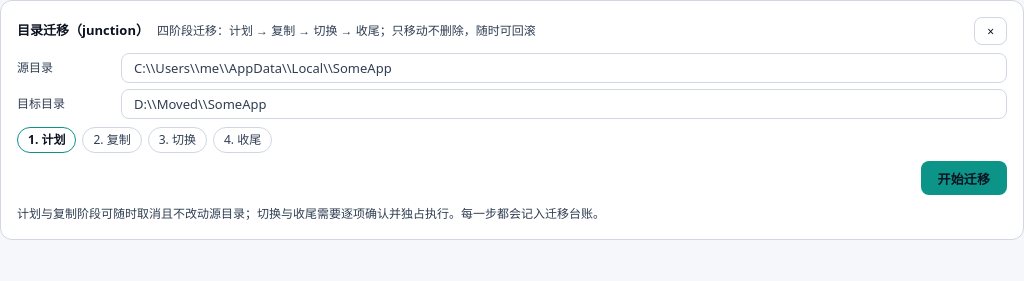
warns instead of pretending to be fresh when the state is inconsistent
In the field labelled "源目录": [564, 68] box [121,53,1007,83], type "C:\\src"
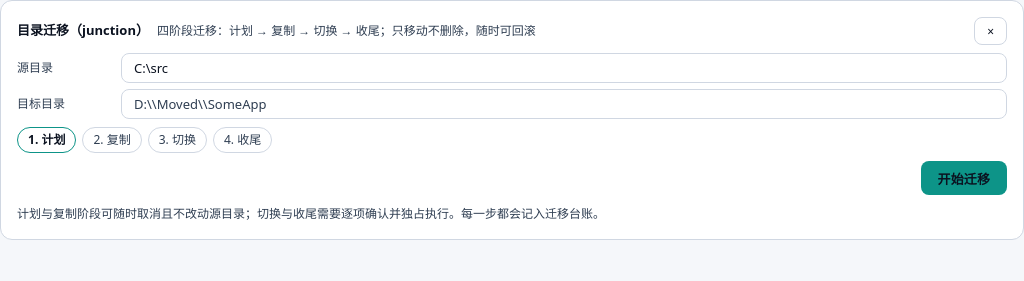
In the field labelled "目标目录": [564, 104] box [121,89,1007,119], type "D:\\dst"
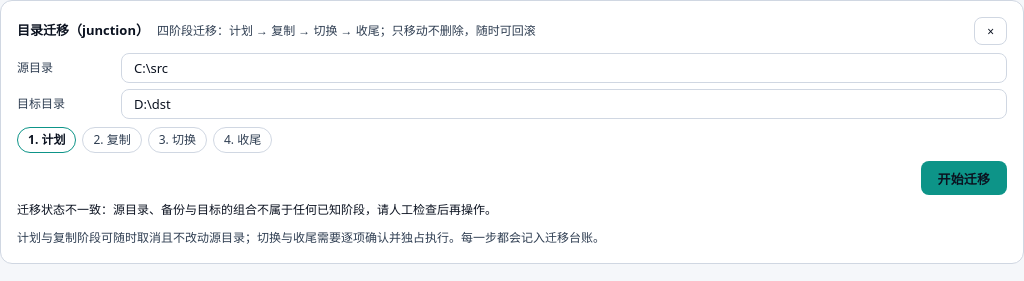
expect the message reads "迁移状态不一致：源目录、备份与目标的组合不属于任何已知阶段，请人工检查后再操作。": met, box [17,201,497,218]
